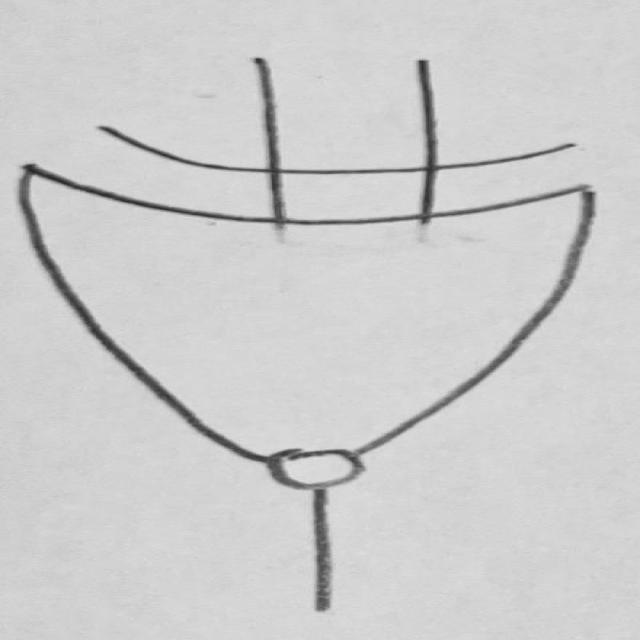XNOR: (3, 105, 619, 492)
